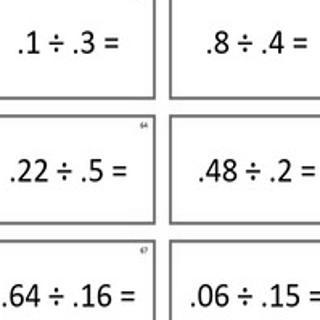.: (258, 46, 271, 58), (68, 46, 78, 58), (17, 44, 25, 58), (204, 46, 213, 58), (268, 171, 275, 185), (9, 174, 16, 187), (260, 299, 269, 309), (72, 299, 80, 310), (189, 300, 198, 309), (1, 298, 8, 309), (80, 175, 87, 185), (198, 175, 205, 185)
0: (196, 280, 214, 309)
1: (23, 26, 41, 59), (268, 281, 285, 312), (80, 280, 95, 309)
2: (32, 153, 51, 186), (275, 153, 293, 187), (16, 154, 33, 187)
3: (78, 24, 98, 58)
4: (269, 25, 285, 62), (204, 156, 223, 187), (25, 281, 43, 309)
5: (86, 156, 104, 185), (284, 281, 302, 310)
6: (8, 281, 25, 311), (96, 282, 114, 309), (213, 280, 228, 311)
8: (212, 25, 232, 61), (221, 152, 240, 188)
